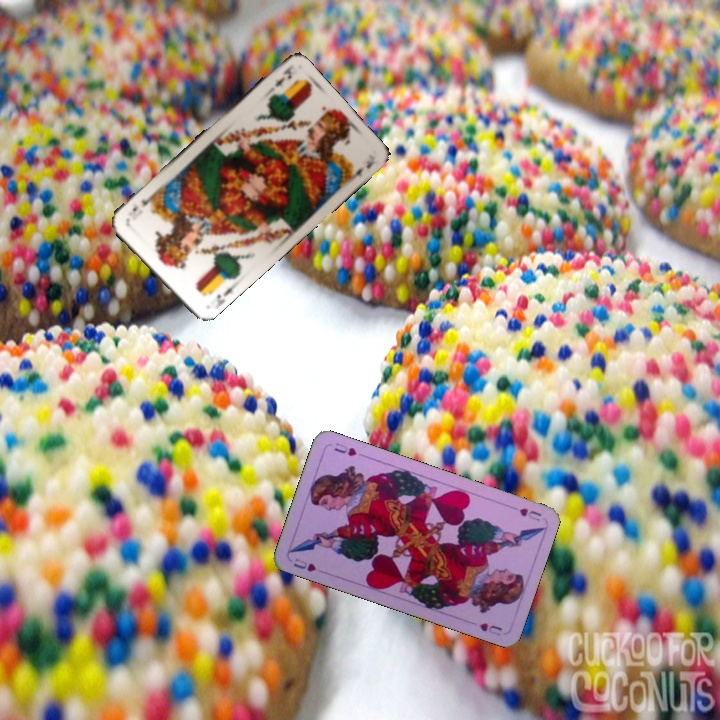EK: (211, 281, 237, 310), (271, 62, 295, 90)
HU: (505, 501, 544, 524), (289, 554, 319, 574)
